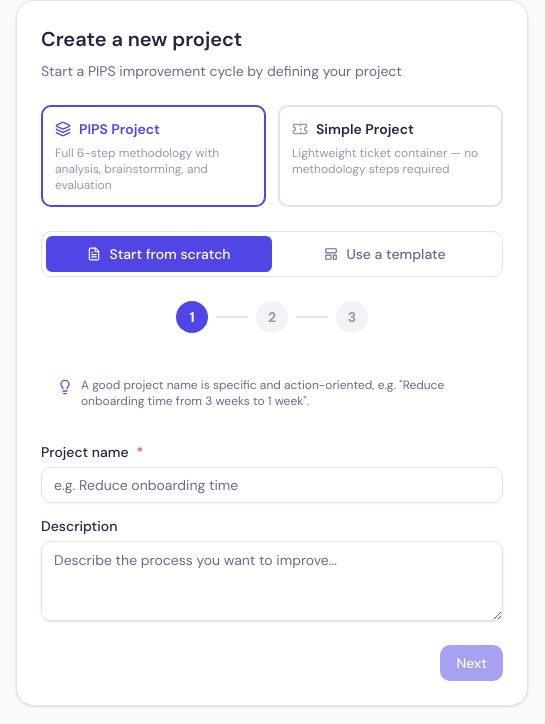
Test case: ProjectForm › navigates to step 3 with review summary
Type "Test Project" into the field with test id "project-name-input" at (272, 485), box [41,467,503,503]
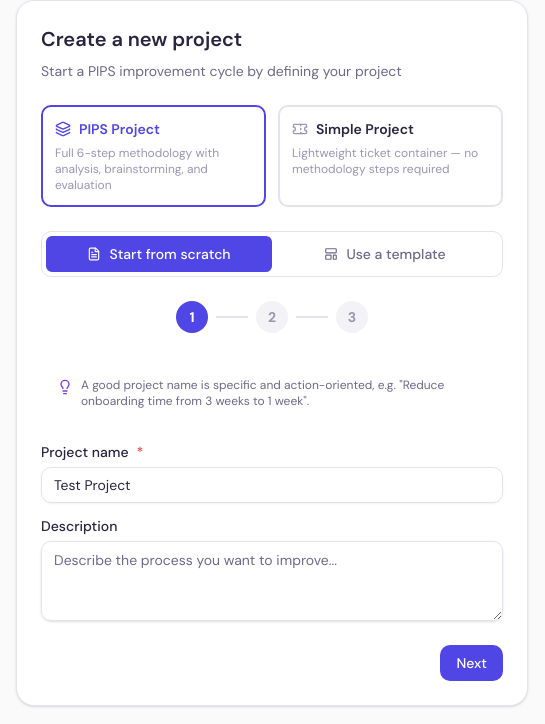
Click the button with test id "step-next-button" at (472, 663), box [440,645,503,681]
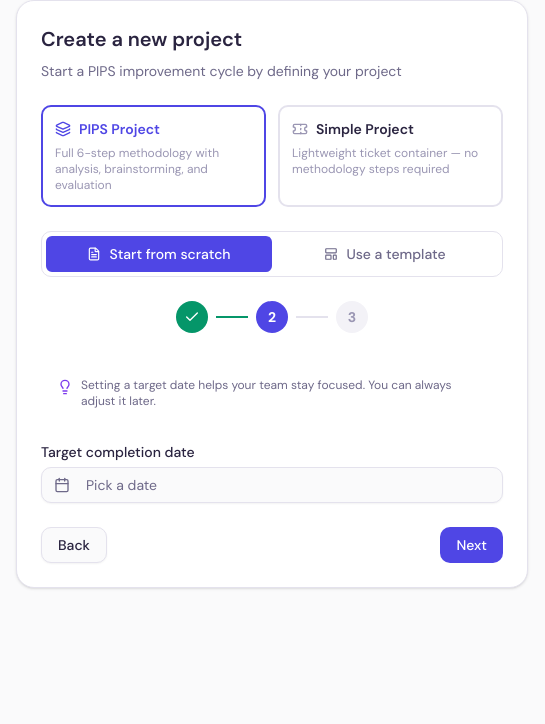
Click the button with test id "step-next-button" at (472, 545), box [440,527,503,563]
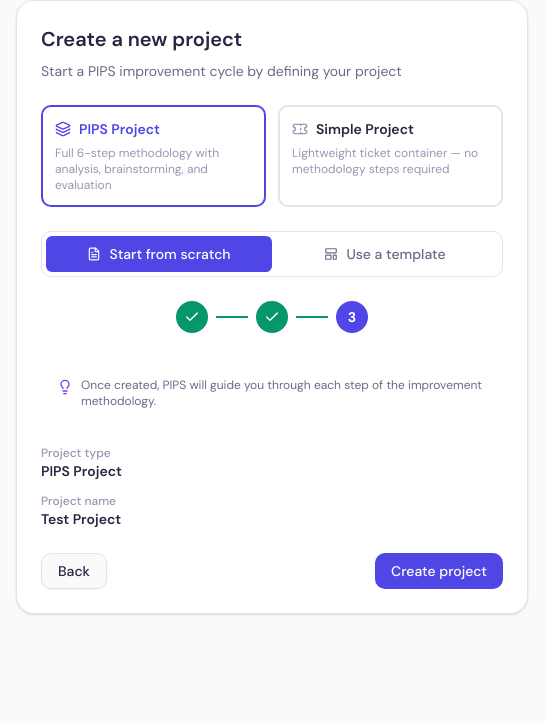
Expected: the element with test id "review-summary" is shown, [41,445,122,528]
Expected: the text with test id "review-name" reads "Test Project", [41,510,121,528]
